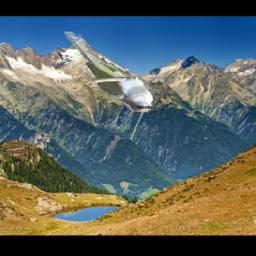Cuckoo: (64, 32, 157, 113)
